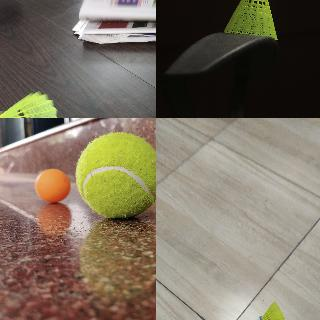shuttlecock: (223, 0, 278, 40), (0, 91, 58, 117), (257, 300, 286, 319)
